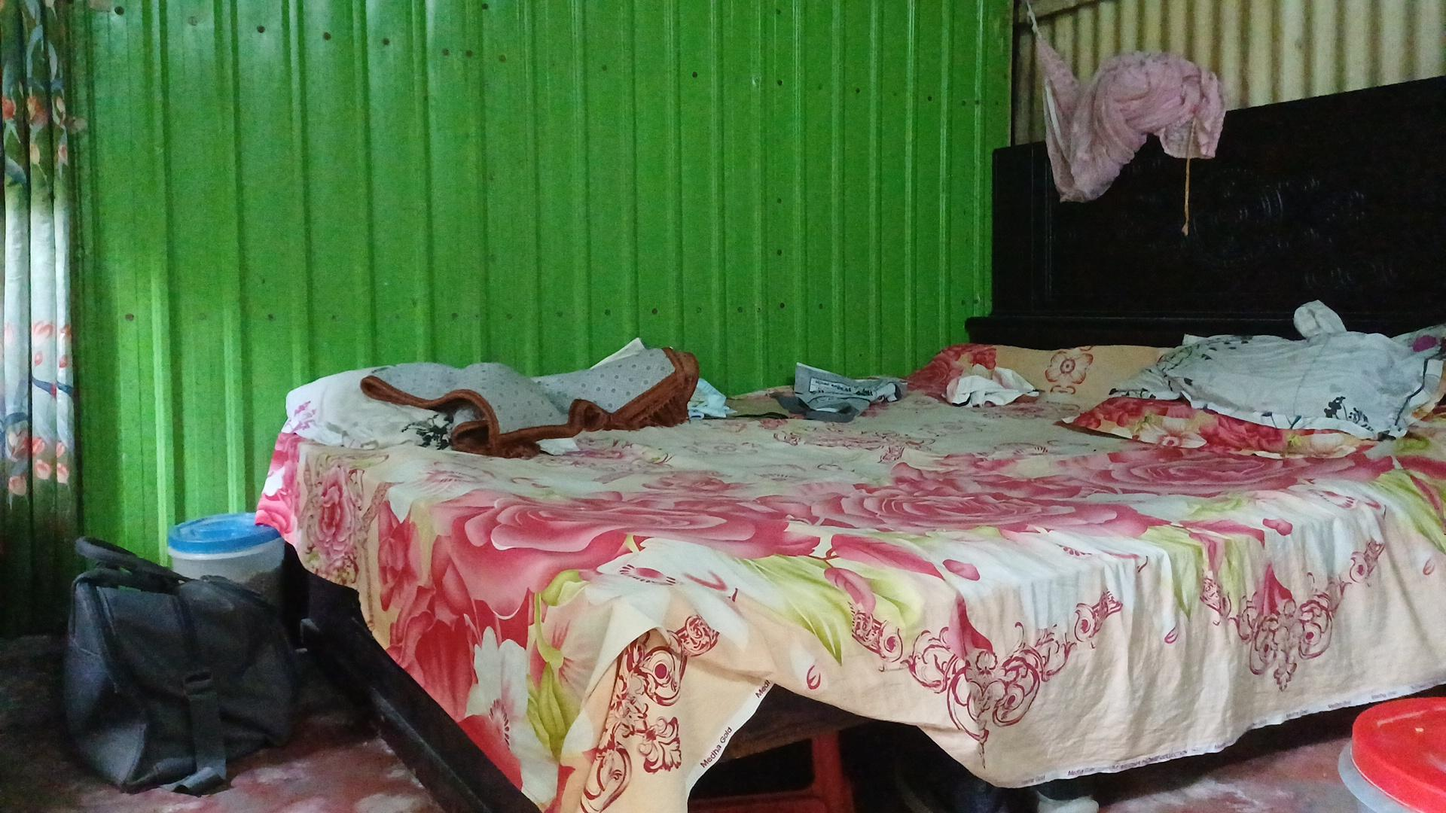Bag: (50, 512, 375, 771)
Pillow: (1119, 278, 1412, 485)
